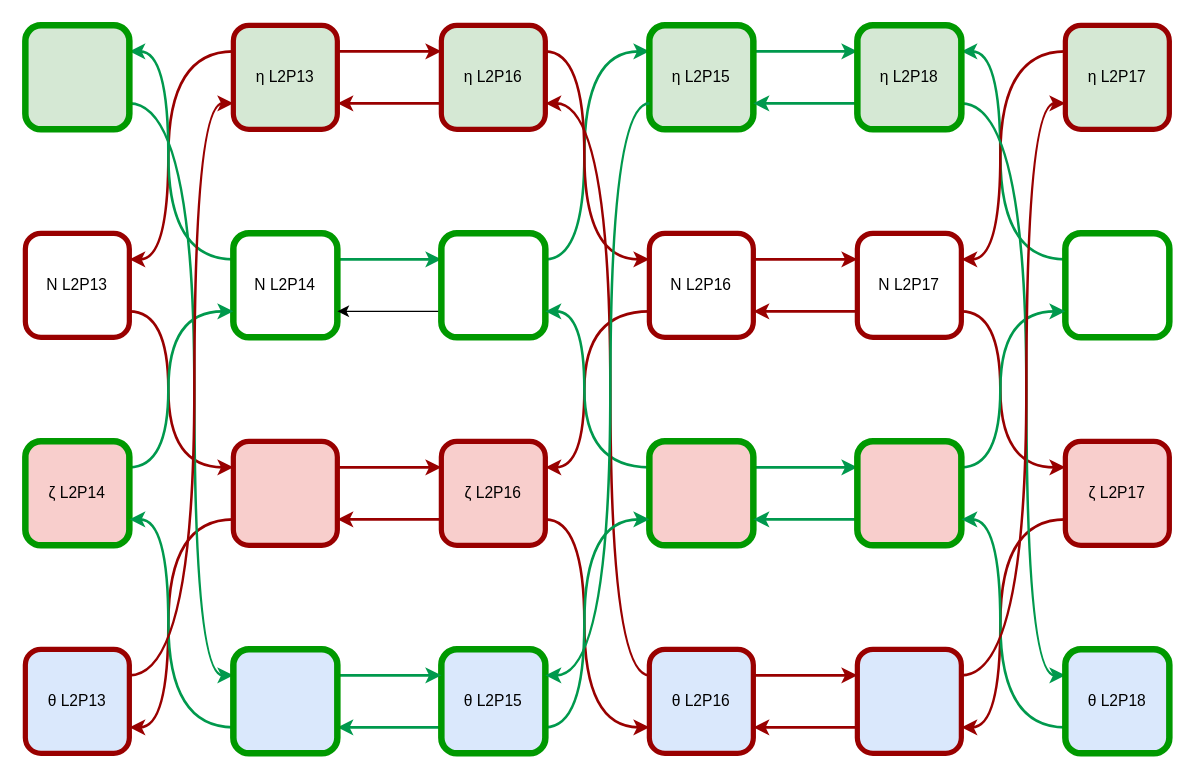
Some shapes in this 1195 by 779 pixel diagram are drawn without their labels. Each missing label, with the centre of its shape:
N L2P15: (x=492, y=284)
N L2P18: (x=1116, y=284)
ζ L2P13: (x=284, y=492)
ζ L2P15: (x=700, y=492)
ζ L2P18: (x=908, y=492)
η L2P14: (x=76, y=76)
θ L2P14: (x=284, y=700)
θ L2P17: (x=908, y=700)
